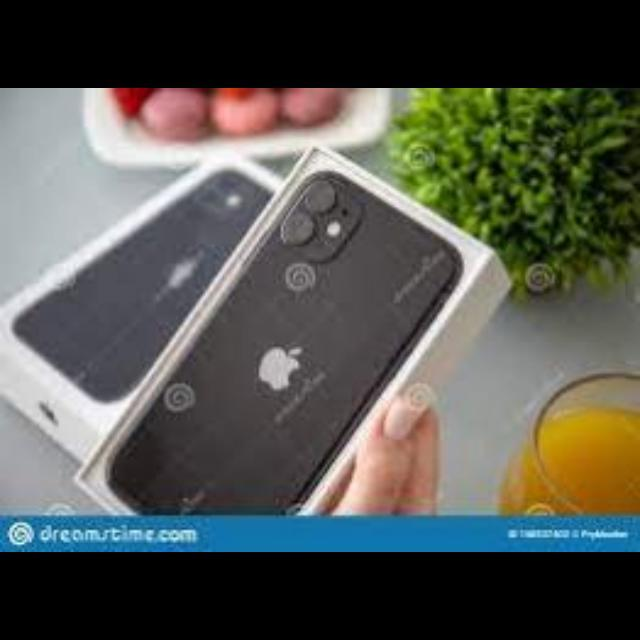Phone: (95, 173, 488, 512)
